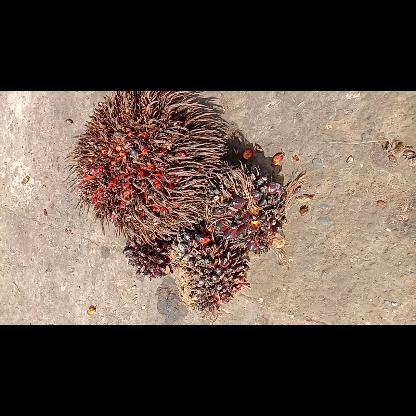TBS abnormal: (170, 224, 250, 322), (206, 165, 292, 255), (123, 228, 177, 280)
Terlalu masak: (64, 92, 231, 246)
